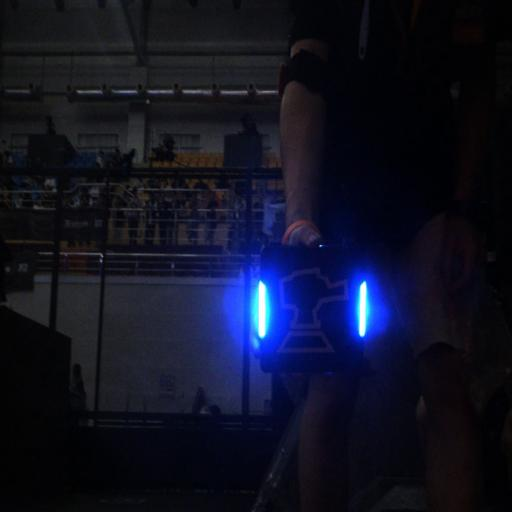target: (252, 236, 372, 374)
